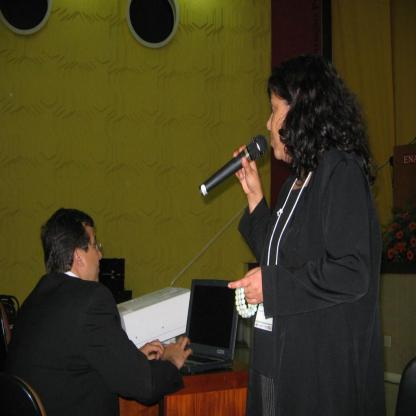board: (179, 280, 241, 378)
